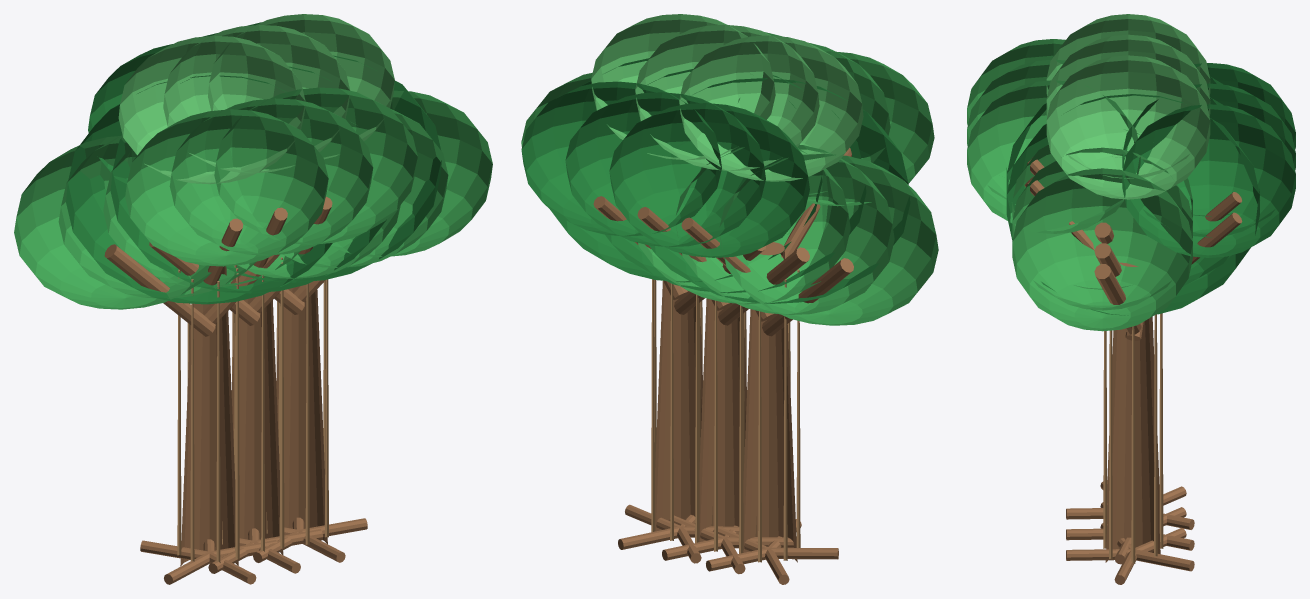
The model's file is niu_three_trees_line.glb.
The picture shows the model from 3 angles, left to right: view 1: azimuth 30°, elevation 25°; view 2: azimuth 150°, elevation 25°; view 3: azimuth 270°, elevation 25°; orthographic projection. The views are drawn at different scales.
Visible parts, largest first — view 1: tree1_leaf_cluster_04, tree2_leaf_cluster_04, tree1_leaf_cluster_05, tree1_main_tapered_trunk, tree1_leaf_cluster_02, tree3_leaf_cluster_04, tree2_main_tapered_trunk, tree3_main_tapered_trunk, tree1_leaf_cluster_00, tree3_leaf_cluster_01, tree2_leaf_cluster_05, tree3_leaf_cluster_05 (+20 smaller); view 2: tree1_leaf_cluster_03, tree1_leaf_cluster_02, tree1_leaf_cluster_05, tree2_leaf_cluster_03, tree1_main_tapered_trunk, tree3_leaf_cluster_03, tree3_main_tapered_trunk, tree2_main_tapered_trunk, tree2_leaf_cluster_05, tree2_leaf_cluster_02, tree3_leaf_cluster_05, tree1_leaf_cluster_04 (+23 smaller); view 3: tree3_leaf_cluster_01, tree3_leaf_cluster_05, tree3_leaf_cluster_03, tree3_main_tapered_trunk, tree3_leaf_cluster_04, tree3_leaf_cluster_00, tree2_leaf_cluster_05, tree1_leaf_cluster_05, tree2_leaf_cluster_03, tree2_leaf_cluster_01, tree1_leaf_cluster_04, tree1_leaf_cluster_03 (+16 smaller).
Part boxes in pixels (left/top/right/bottom): tree1_leaf_cluster_04: left=125, top=109, right=328, bottom=266; tree2_leaf_cluster_04: left=169, top=98, right=373, bottom=255; tree1_leaf_cluster_05: left=118, top=35, right=305, bottom=184; tree1_main_tapered_trunk: left=180, top=266, right=238, bottom=566; tree1_leaf_cluster_02: left=14, top=135, right=211, bottom=309; tree3_leaf_cluster_04: left=214, top=87, right=417, bottom=244; tree2_main_tapered_trunk: left=231, top=298, right=283, bottom=554; tree3_main_tapered_trunk: left=276, top=287, right=327, bottom=544; tree1_leaf_cluster_00: left=66, top=75, right=332, bottom=304; tree3_leaf_cluster_01: left=331, top=90, right=492, bottom=256; tree2_leaf_cluster_05: left=163, top=25, right=350, bottom=173; tree3_leaf_cluster_05: left=208, top=14, right=394, bottom=159; tree1_leaf_cluster_03: left=609, top=103, right=809, bottom=257; tree1_leaf_cluster_02: left=719, top=153, right=938, bottom=325; tree1_leaf_cluster_05: left=679, top=35, right=863, bottom=181; tree2_leaf_cluster_03: left=565, top=92, right=765, bottom=247; tree1_main_tapered_trunk: left=743, top=242, right=797, bottom=562; tree3_leaf_cluster_03: left=521, top=81, right=721, bottom=236; tree3_main_tapered_trunk: left=655, top=280, right=702, bottom=531; tree2_main_tapered_trunk: left=699, top=298, right=746, bottom=542; tree2_leaf_cluster_05: left=635, top=24, right=819, bottom=170; tree2_leaf_cluster_02: left=676, top=144, right=894, bottom=314; tree3_leaf_cluster_05: left=591, top=14, right=775, bottom=160; tree1_leaf_cluster_04: left=738, top=51, right=934, bottom=206; tree3_leaf_cluster_01: left=1012, top=168, right=1192, bottom=331; tree3_leaf_cluster_05: left=1046, top=55, right=1210, bottom=199; tree3_leaf_cluster_03: left=1122, top=104, right=1295, bottom=257; tree3_main_tapered_trunk: left=1105, top=262, right=1160, bottom=562; tree3_leaf_cluster_04: left=967, top=80, right=1140, bottom=233; tree3_leaf_cluster_00: left=1006, top=94, right=1259, bottom=315; tree2_leaf_cluster_05: left=1046, top=34, right=1210, bottom=178; tree1_leaf_cluster_05: left=1046, top=14, right=1210, bottom=157; tree2_leaf_cluster_03: left=1122, top=83, right=1295, bottom=237; tree2_leaf_cluster_01: left=1012, top=147, right=1192, bottom=310; tree1_leaf_cluster_04: left=967, top=39, right=1087, bottom=125; tree1_leaf_cluster_03: left=1193, top=63, right=1295, bottom=216.
Size of the model in its own units: 3.85 by 4.5 by 2.69.
